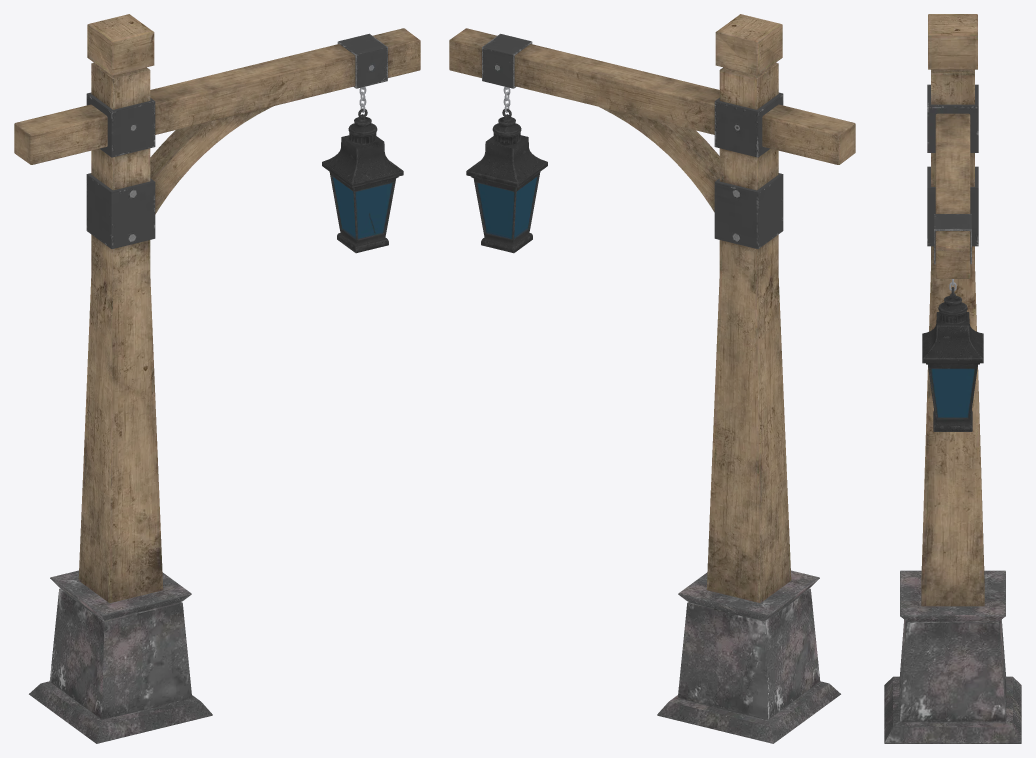
Rendered from lantern.glb.
3 renders of one model, left to right at view 1: azimuth 30°, elevation 25°; view 2: azimuth 150°, elevation 25°; view 3: azimuth 270°, elevation 25°, orthographic.
Parts seen in each view (by area): view 1: LanternPole_Body; view 2: LanternPole_Body; view 3: LanternPole_Body.
Boxes of the visible parts, x1,y1,x2,y2 form: LanternPole_Body: (14, 14, 420, 743); LanternPole_Body: (449, 14, 855, 743); LanternPole_Body: (884, 14, 1021, 743).
Bounding box in the file's own units: 15.49 × 25.66 × 4.63.
1 material, 1 textured.
